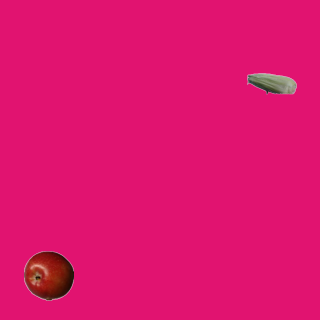Apple Braeburn: (23, 250, 73, 300)
Corn Husk: (246, 58, 296, 108)
